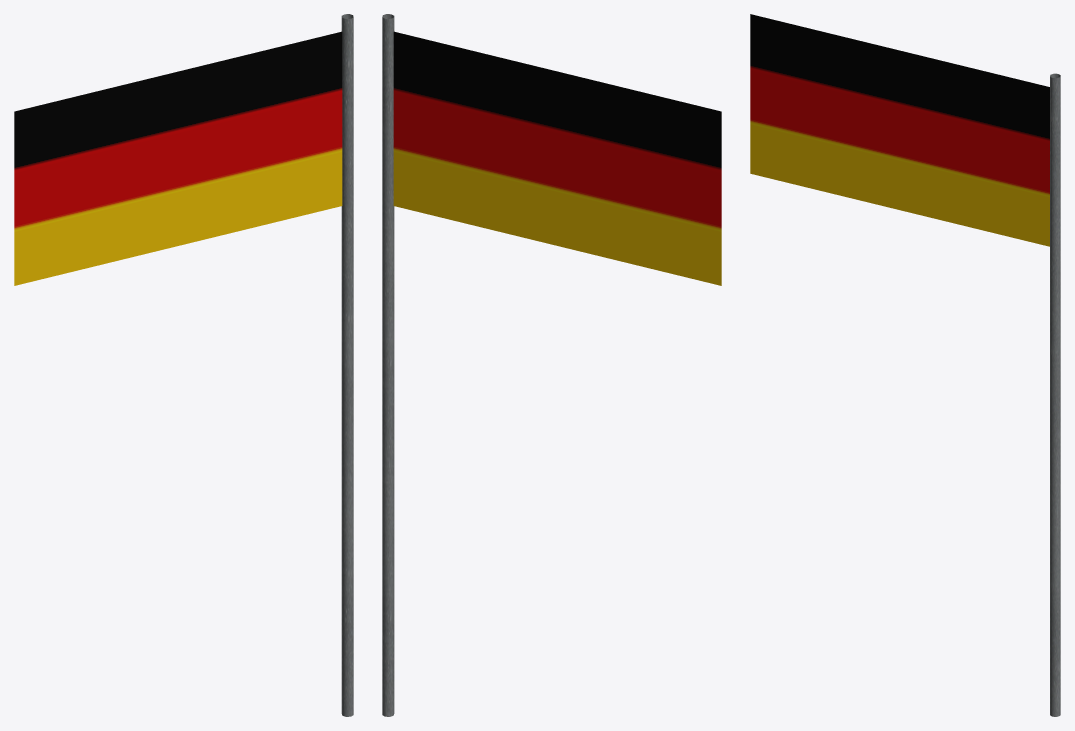
Rendered from Germany.fbx.
3 views of the same model, side by side, from view 1: azimuth 30°, elevation 25°; view 2: azimuth 150°, elevation 25°; view 3: azimuth 330°, elevation 25° (orthographic). The views are drawn at different scales.
Parts seen in each view (by area): view 1: Flag, Pole; view 2: Flag, Pole; view 3: Flag, Pole.
Boxes of the visible parts, <box> form: Flag: <box>14,31,342,285</box>; Pole: <box>341,14,353,716</box>; Flag: <box>393,31,721,285</box>; Pole: <box>382,14,394,716</box>; Flag: <box>750,14,1049,246</box>; Pole: <box>1050,73,1060,716</box>.
Size of the model in its own units: 406 by 800 by 12.83.
